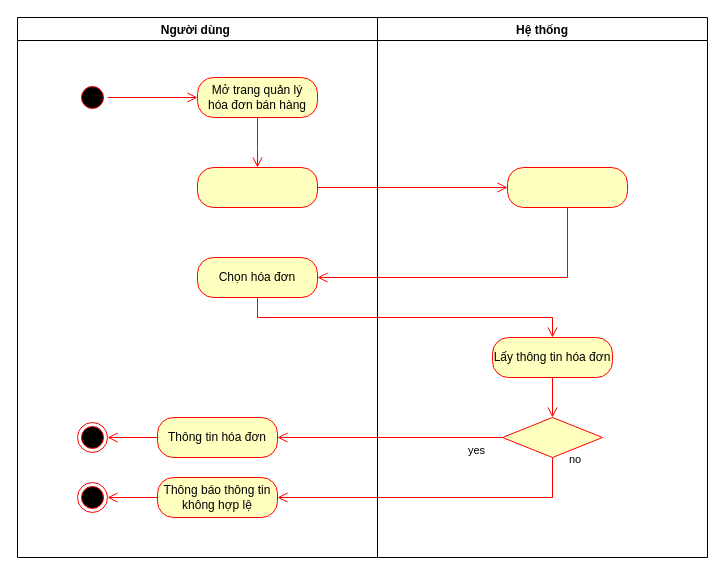
The diagram is 725 pixels wide and 575 high, and some of its shapes have lost their labels. The centre of each missing label's shape, as x and y in pixels:
Chọn danh sách hóa đơn bán hàng: point 257,187
Hợp lệ: point 552,437
Lấy danh sách hóa đơn: point 567,187
